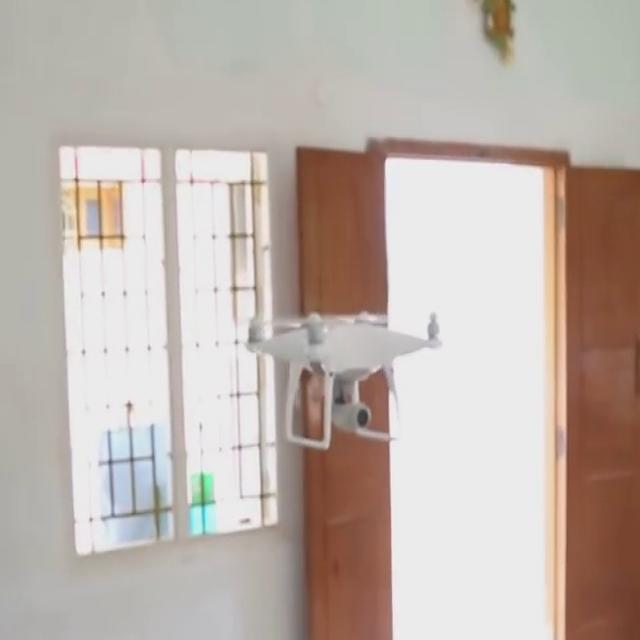drone: (234, 286, 452, 456)
